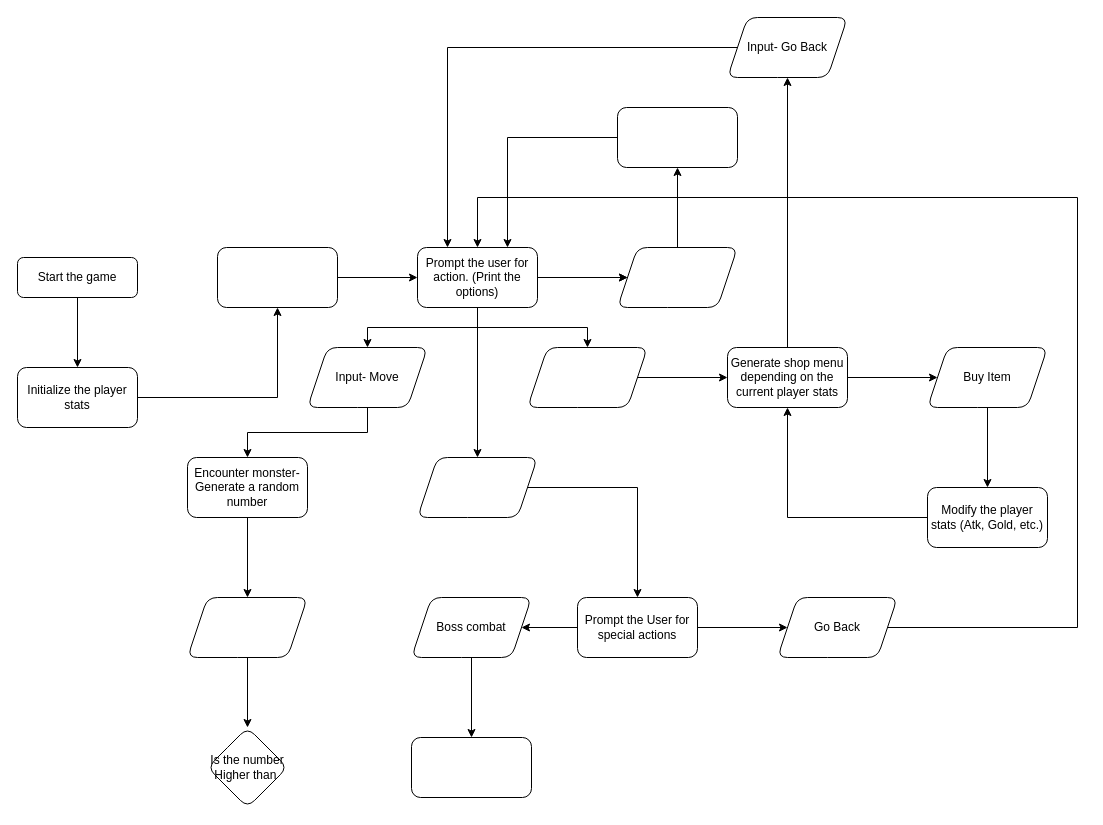
The diagram is 1103 pixels wide and 825 high, and some of its shapes have lost their labels. Each missing label, with the centre of its shape:
"Explain the rules and the background settings of the game." belongs at (x=277, y=277).
"Format player stats and print the stats" belongs at (x=677, y=137).
"Input- Number Guess" belongs at (x=247, y=627).
"Input- See stats" belongs at (x=677, y=277).
"Input- Shop" belongs at (x=587, y=377).
"Input- Special Actions" belongs at (x=477, y=487).
